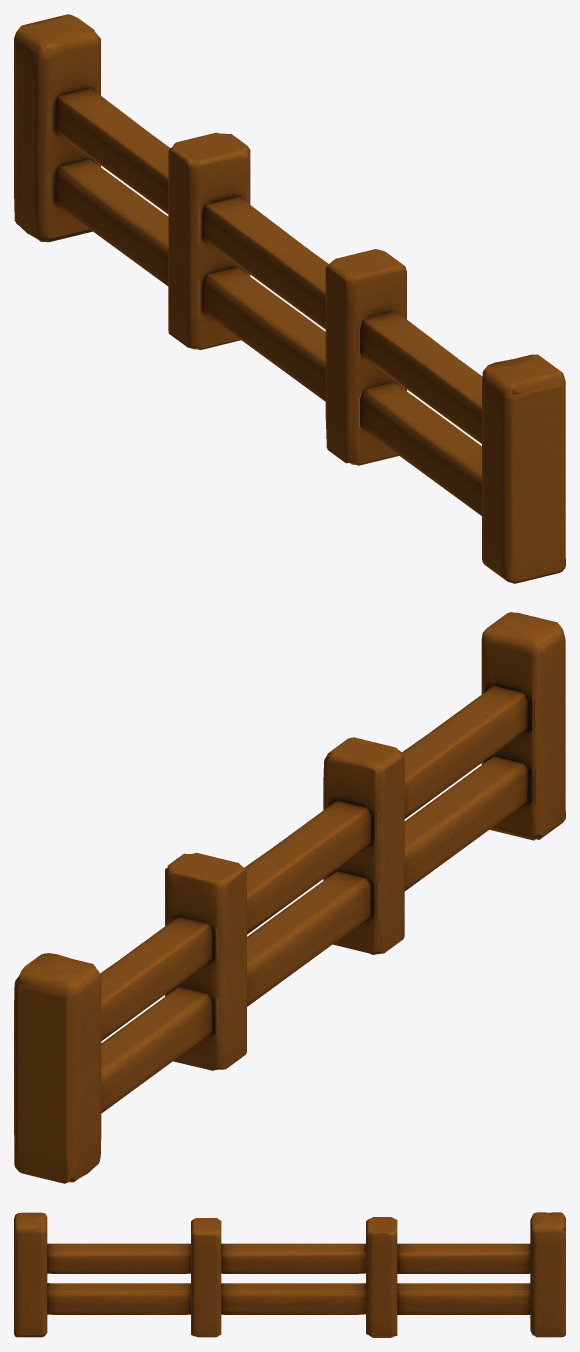
File: fence_new.glb
3 views of the same model, one above another, from view 1: azimuth 30°, elevation 25°; view 2: azimuth 150°, elevation 25°; view 3: azimuth 270°, elevation 25° (orthographic). The views are drawn at different scales.
Visible parts, largest first — view 1: tripo_node_537a4ce7-641d-48c6-8a67-67fb81f47cd1; view 2: tripo_node_537a4ce7-641d-48c6-8a67-67fb81f47cd1; view 3: tripo_node_537a4ce7-641d-48c6-8a67-67fb81f47cd1.
Boxes of the visible parts, left/top/right/bottom form: tripo_node_537a4ce7-641d-48c6-8a67-67fb81f47cd1: left=14, top=14, right=565, bottom=583; tripo_node_537a4ce7-641d-48c6-8a67-67fb81f47cd1: left=14, top=612, right=565, bottom=1183; tripo_node_537a4ce7-641d-48c6-8a67-67fb81f47cd1: left=14, top=1212, right=565, bottom=1337.
Bounding box in the file's own units: 0.0762 × 0.2207 × 0.998.
1 material, 1 textured.
